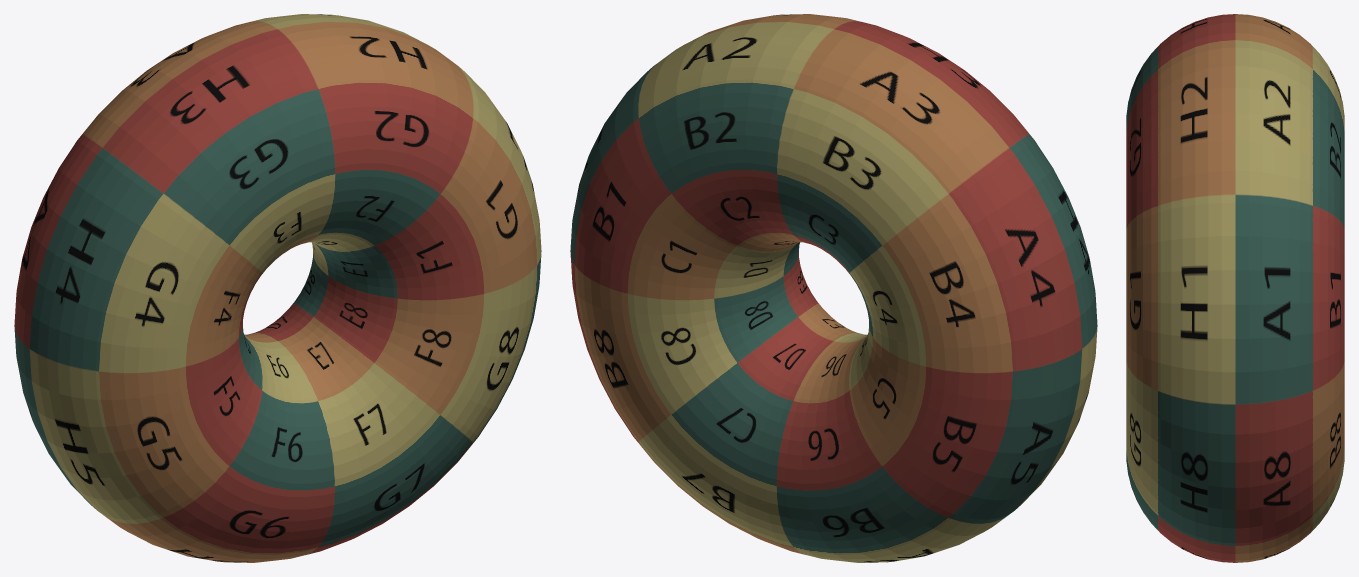
The model's file is texture_torus_R1_r19.glb.
3 views of the same model, side by side, from view 1: azimuth 30°, elevation 25°; view 2: azimuth 150°, elevation 25°; view 3: azimuth 270°, elevation 25° (orthographic). The views are drawn at different scales.
Parts seen in each view (by area): view 1: world; view 2: world; view 3: world.
Part boxes in pixels (bbox=[...]): world: bbox=[14, 14, 541, 562]; world: bbox=[570, 14, 1097, 562]; world: bbox=[1126, 14, 1344, 562].
Bounding box in the file's own units: 17.73 × 17.7 × 7.05.
Materials: 1 (1 with a texture image).
